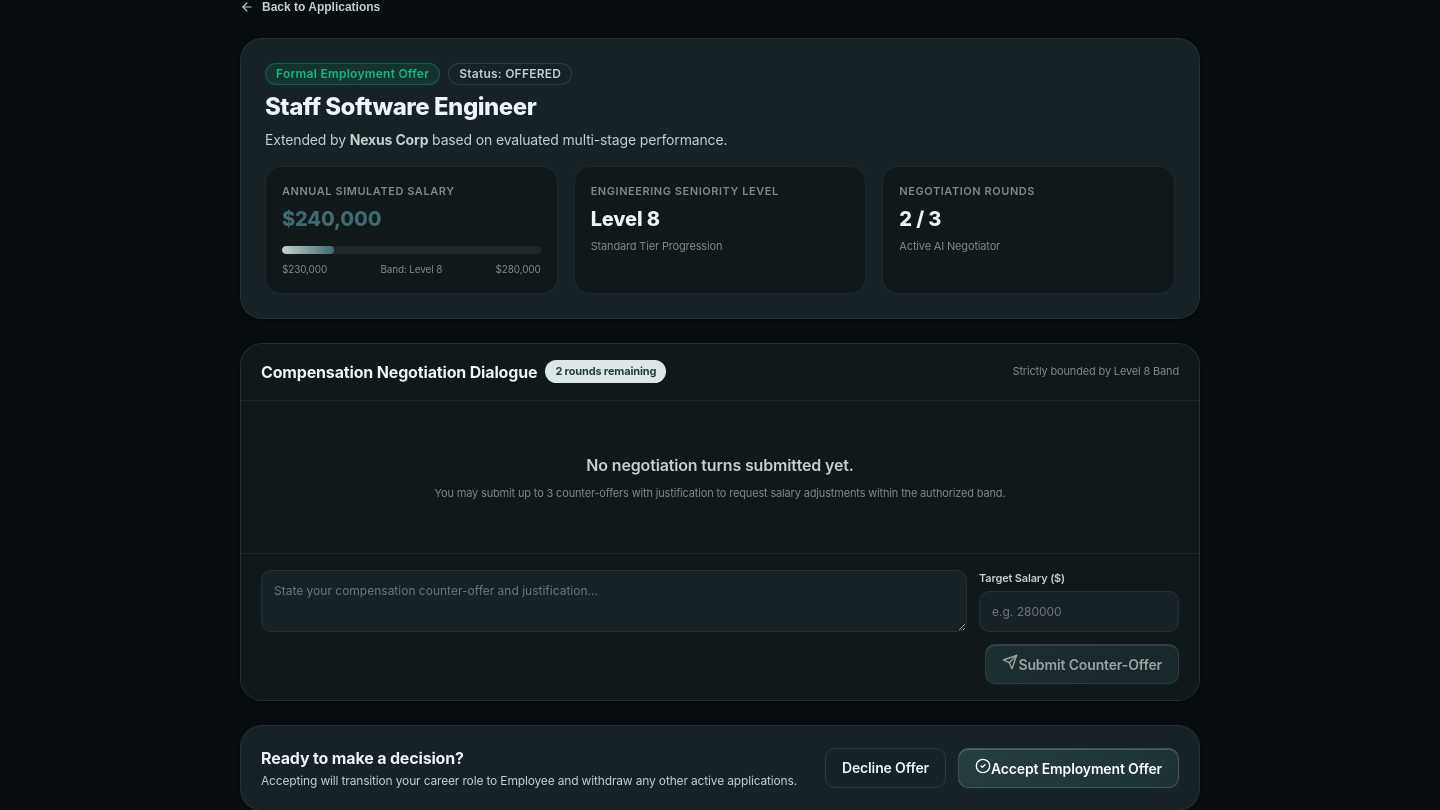
Test: Hiring Journey Frontend Suite (TASK P6.7) › 4. Offer Review & Negotiation Page (OfferPage) › renders compensation terms, executes salary counter-offer, and accepts offer
The image size is (1440, 810).
Expected: the heading "Staff Software Engineer" is shown, [265,92,536,121]
Expected: the text "$240,000" is shown, [282,206,381,230]
In the text box with test id "negotiation-message-input": (614,601) [261,570,967,632], type "I bring deep systems expertise, requesting $260k."
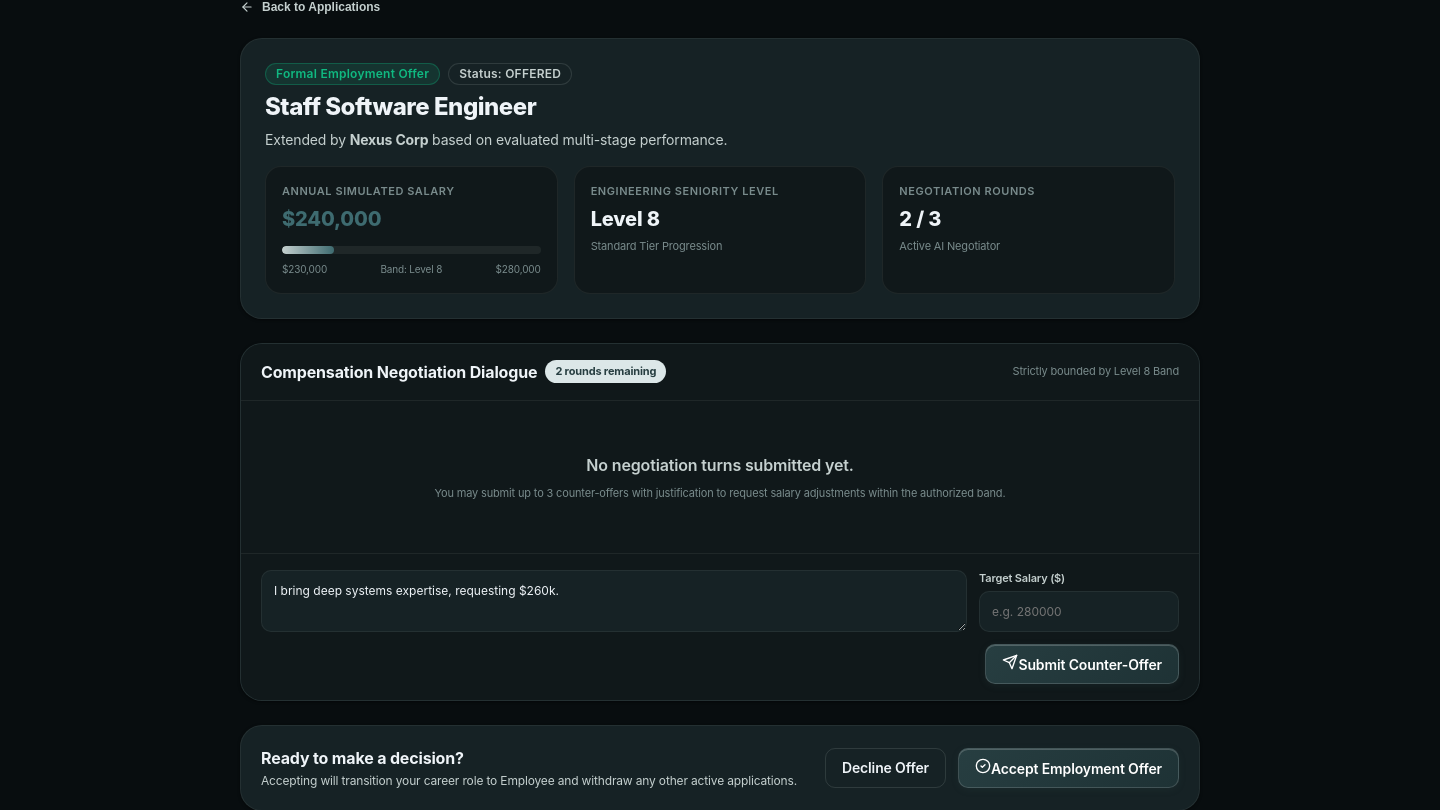
In the number field with test id "negotiation-salary-input": (1079,611) [979,590,1179,632], type "260000"
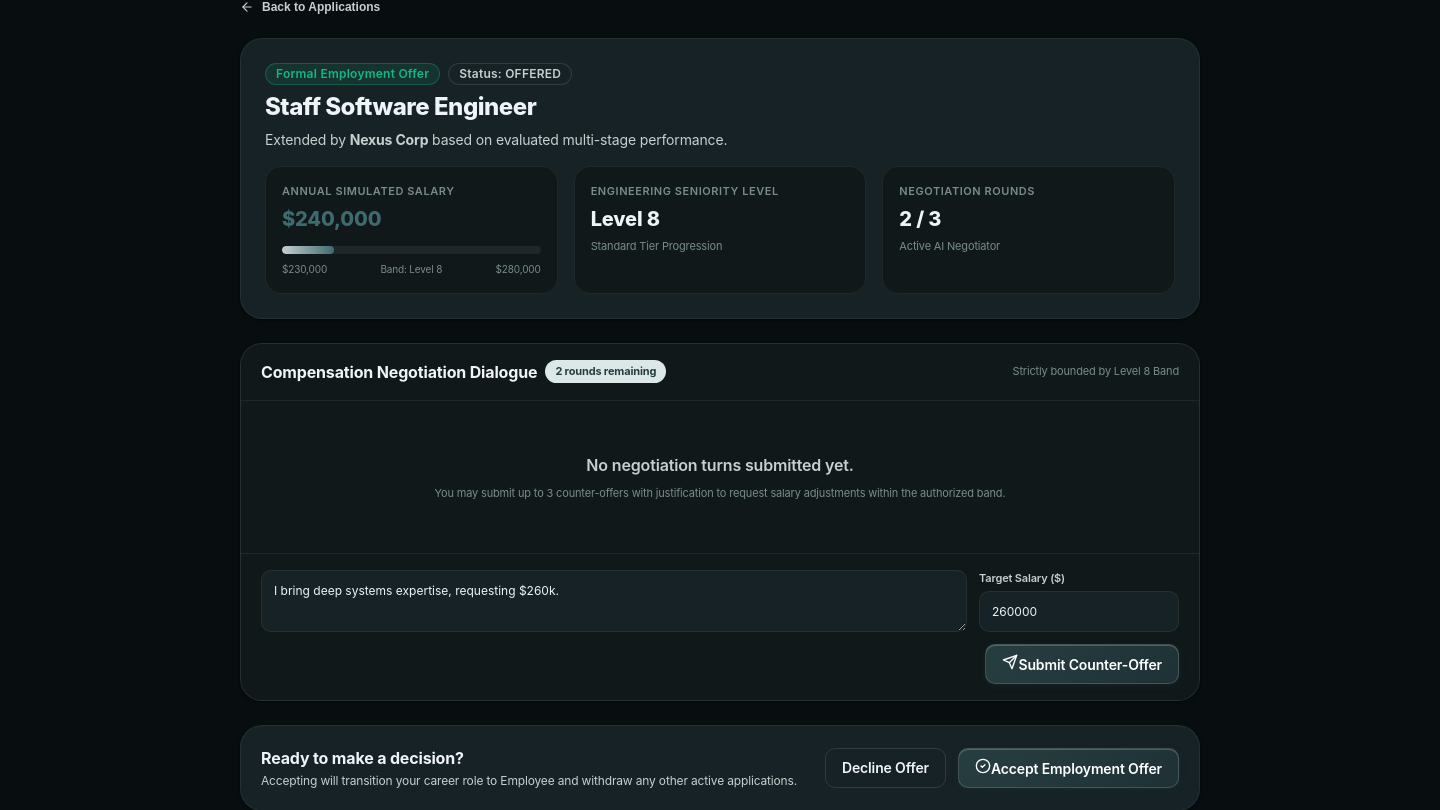
Click the button with test id "submit-negotiation-btn": (1082,664) [986,644,1179,684]
(page scrolled)
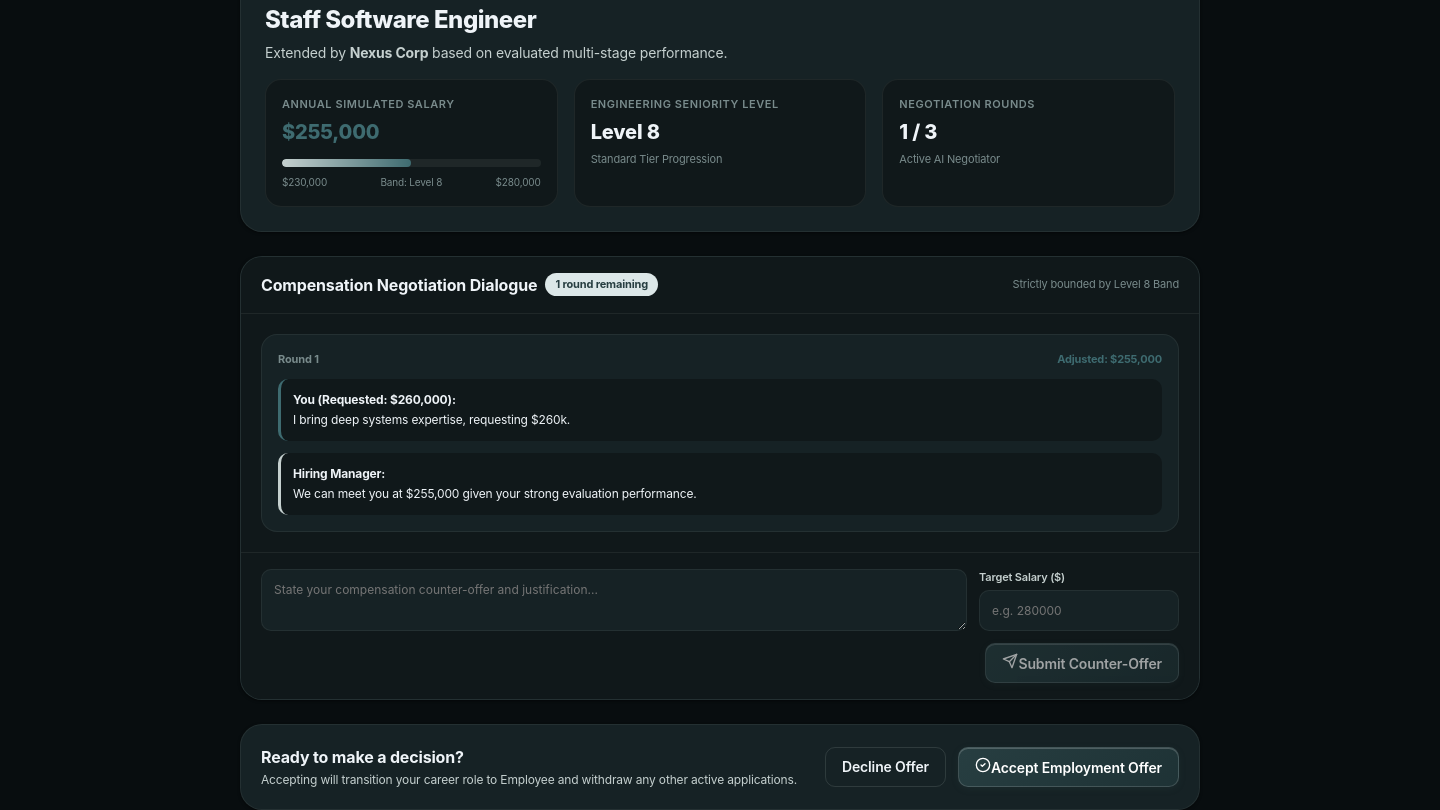
Expected: the text "Adjusted: $255,000" is shown, [1057,350,1162,367]
// Accept Offer
Click the button with test id "accept-offer-btn": (1068,766) [958,746,1179,786]
(page scrolled)
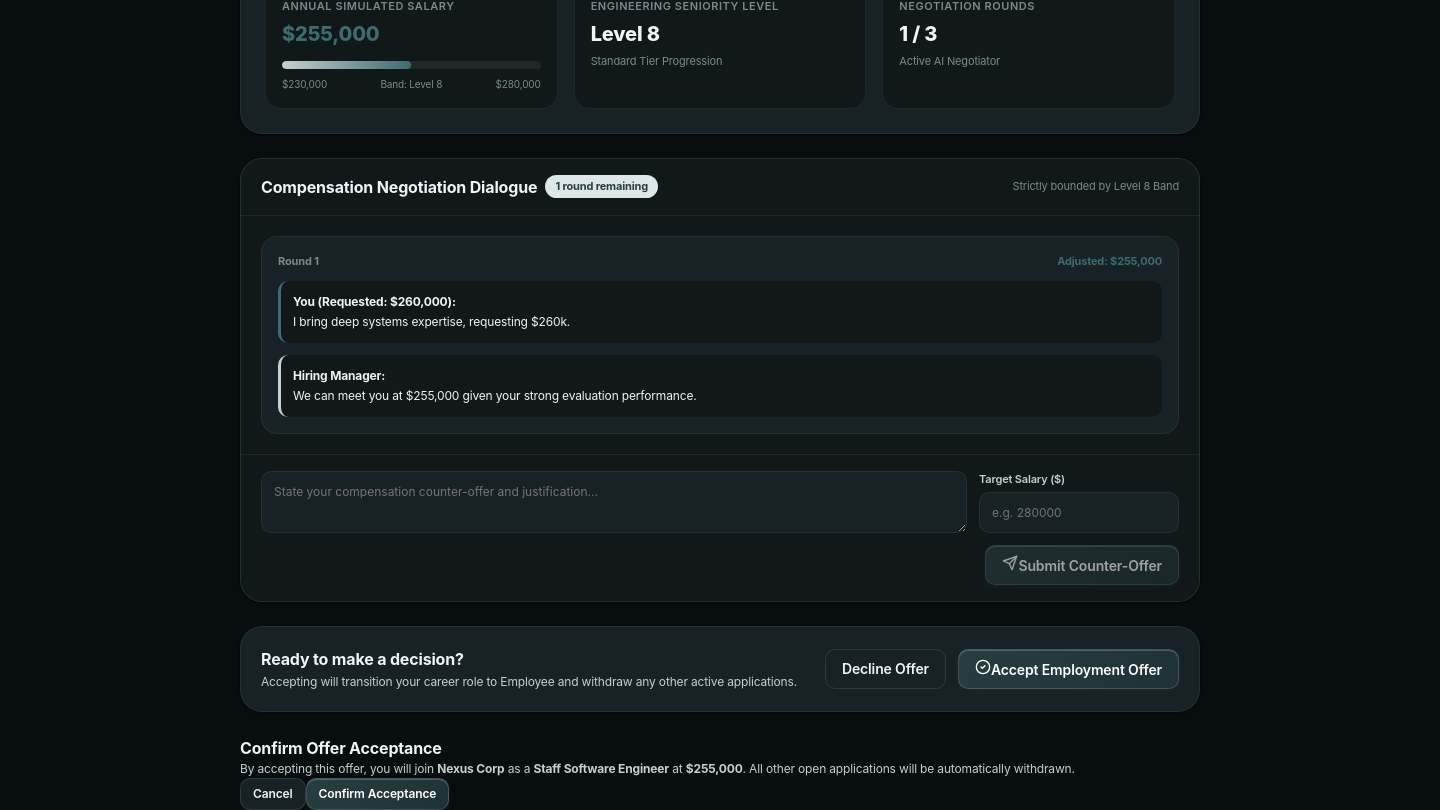
Click the button with test id "confirm-accept-btn": (377,794) [306,778,449,809]
(page scrolled)
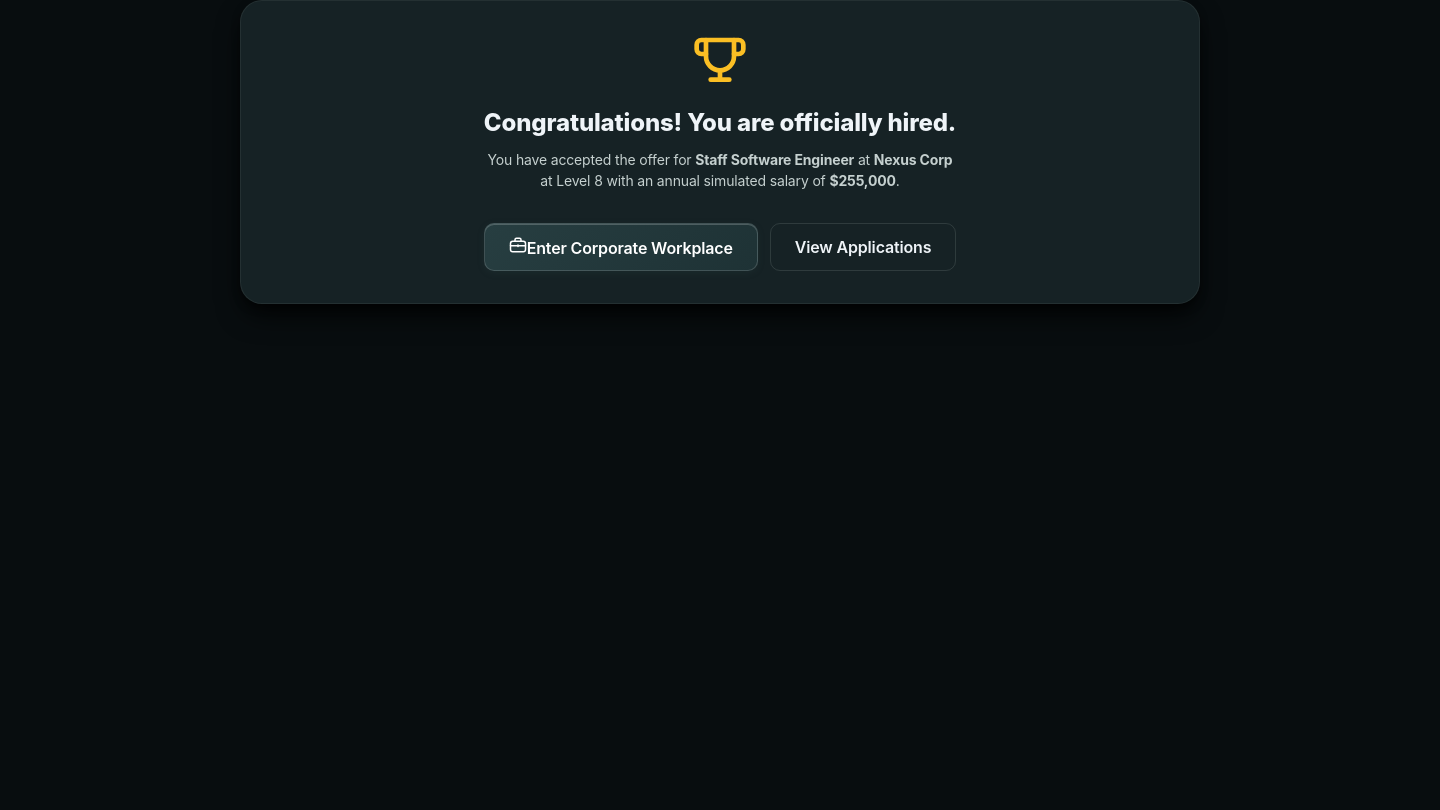
Expected: the element with test id "offer-accepted-celebration" is shown, [240,0,1200,304]
Expected: the heading "Congratulations! You are officially hired." is shown, [480,105,960,141]
